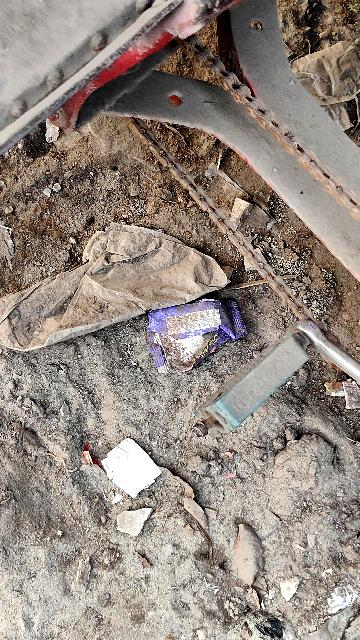packet: (141, 295, 251, 364)
